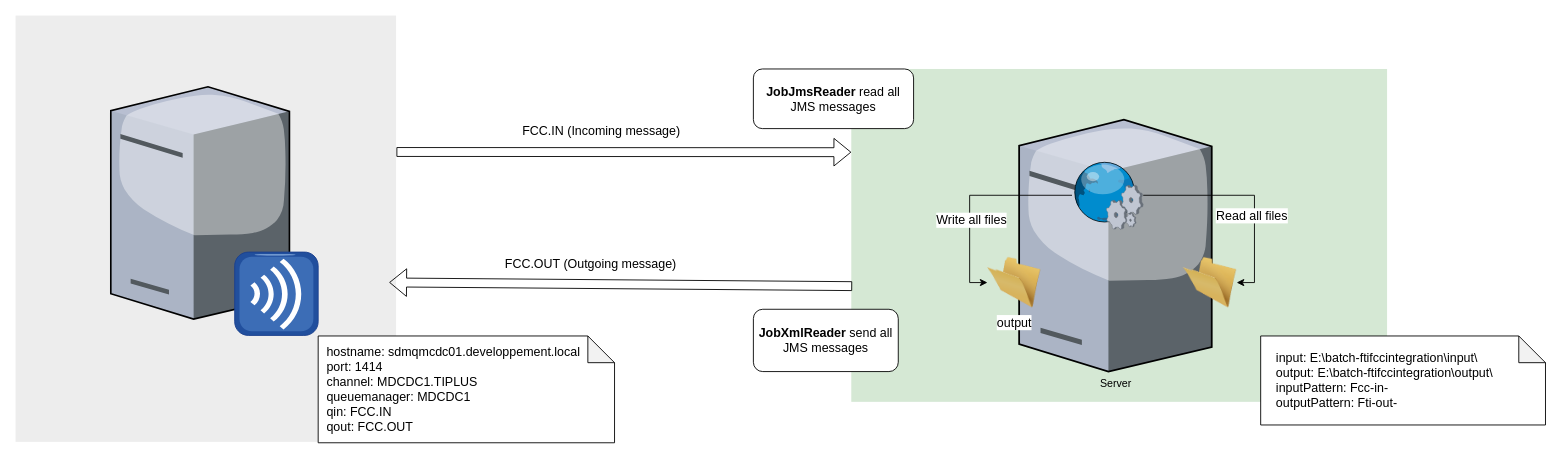
This 1561x458 diagram has some shape labels left out. The shapes that lost their labels are listed below. From the top down, each one's centre as x and y in pixels, then its label:
pixel 214 210: IBM MQ
pixel 1107 195: batch-ftifccintegration
pixel 1209 282: input
